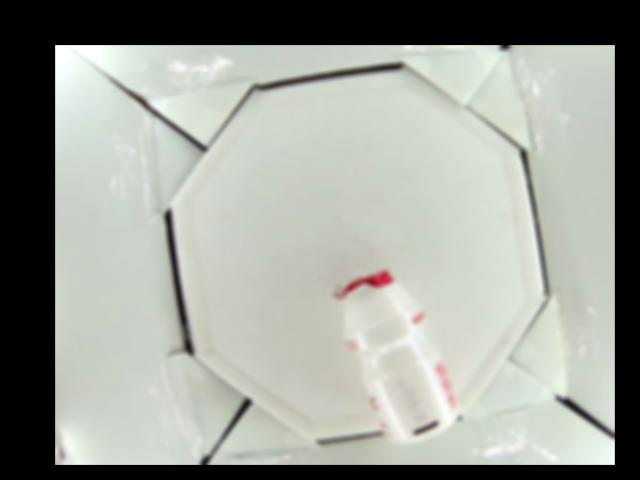Bottle: (334, 270, 463, 442)
